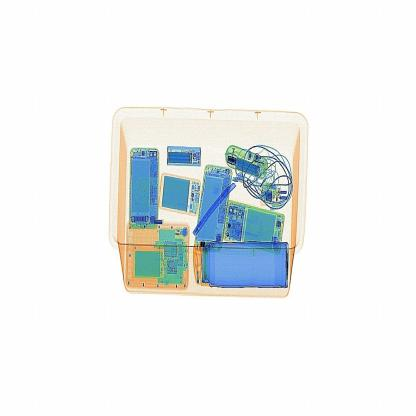pliers: (188, 181, 251, 245)
